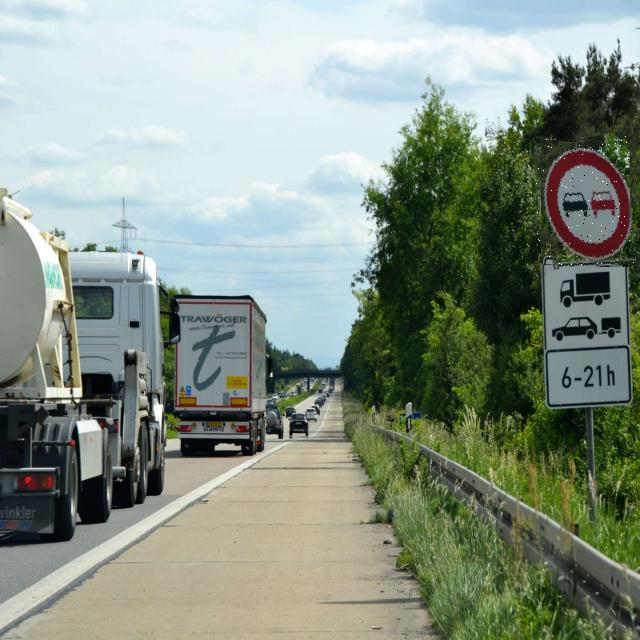no overtaking: (535, 135, 636, 267)
